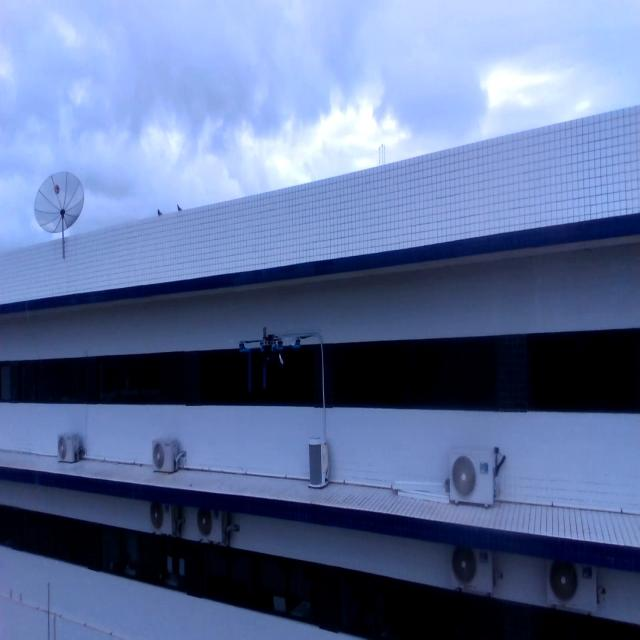-uav-: (228, 306, 314, 426)
